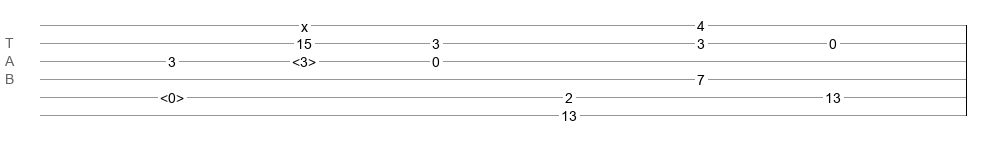0: (432, 54, 440, 64), (829, 36, 837, 46)
13: (561, 108, 577, 118), (825, 90, 841, 100)
15: (296, 36, 312, 46)
2: (565, 90, 573, 100)
3: (168, 54, 176, 64), (432, 36, 440, 46), (697, 36, 705, 46)
4: (697, 18, 705, 28)
7: (697, 72, 705, 82)
harmonic: (160, 90, 184, 100), (292, 54, 316, 64)
x: (301, 19, 308, 27)
